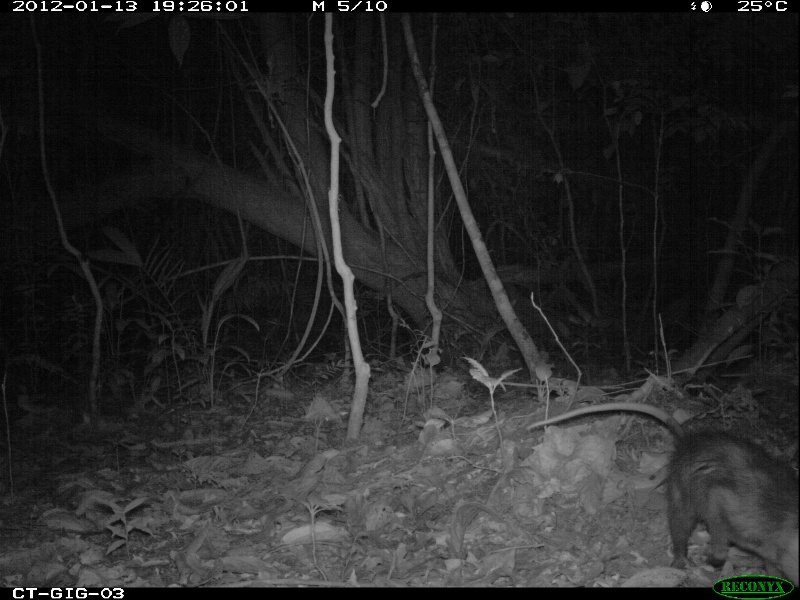opossum: (527, 399, 800, 580)
